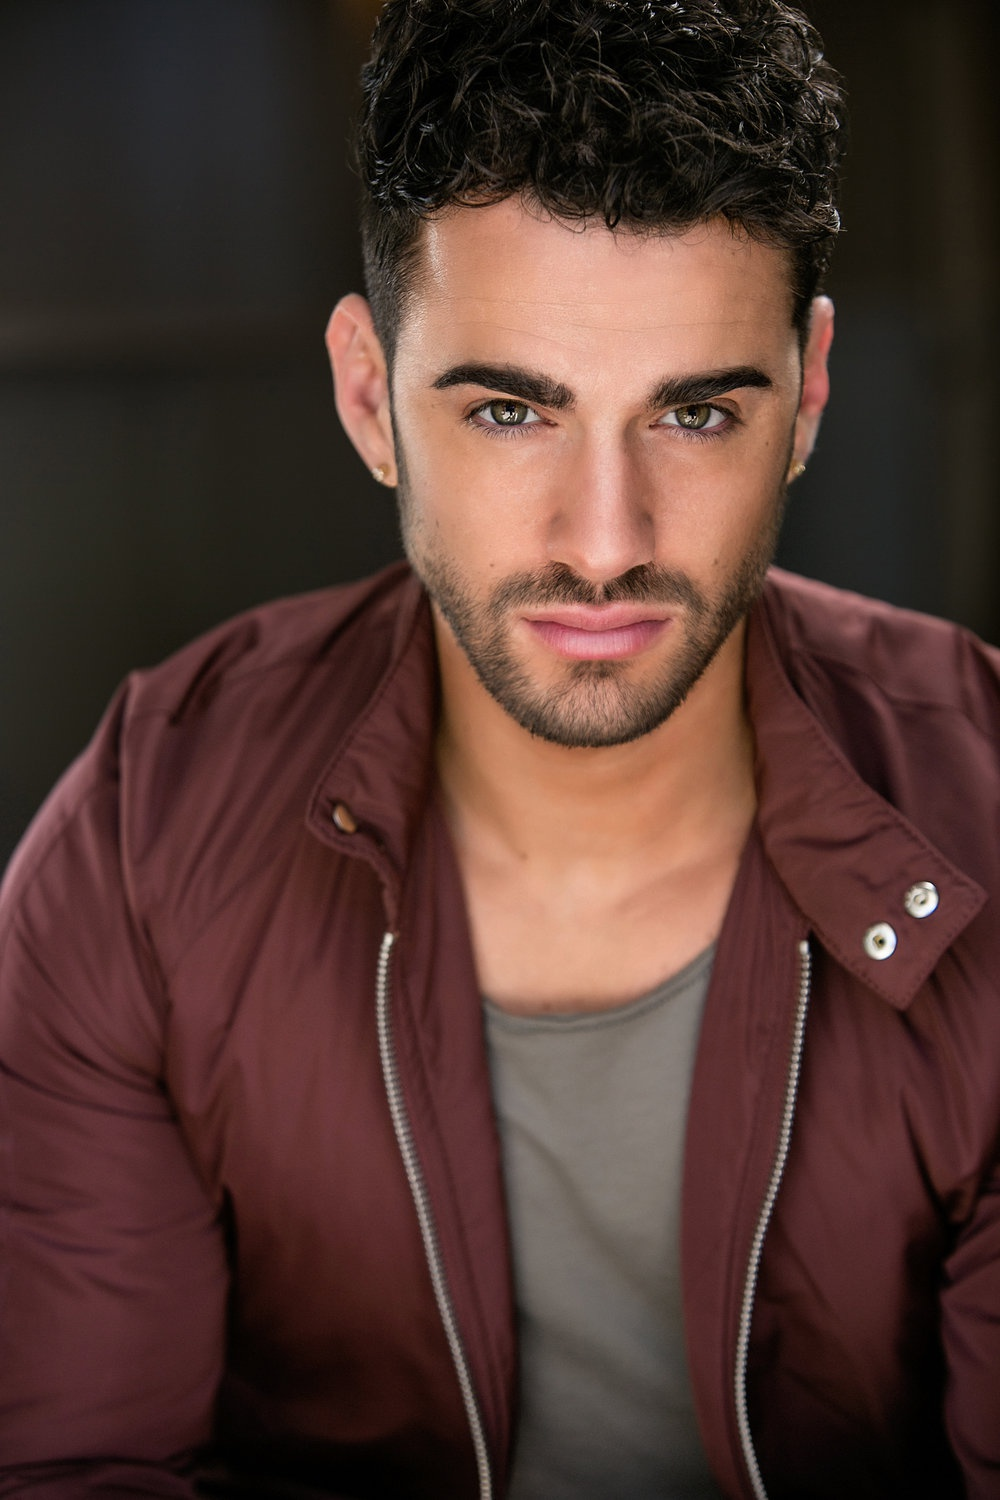bad: (348, 297, 810, 759)
